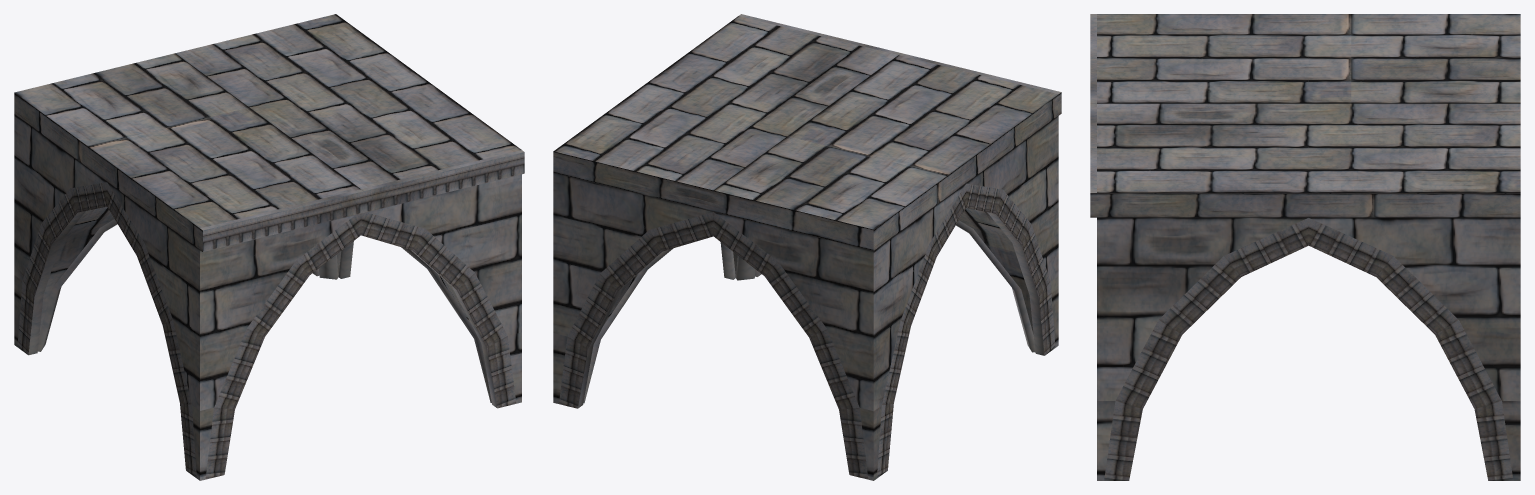
Rendered from vault_small_front_01.fbx.
3 views of the same model, side by side, from view 1: azimuth 30°, elevation 25°; view 2: azimuth 150°, elevation 25°; view 3: azimuth 270°, elevation 25° (orthographic). The views are drawn at different scales.
Visible parts, largest first — view 1: vault_small_front_01; view 2: vault_small_front_01; view 3: vault_small_front_01.
Boxes of the visible parts, x1=… form: vault_small_front_01: x1=14, y1=14, x2=524, y2=480; vault_small_front_01: x1=553, y1=14, x2=1061, y2=480; vault_small_front_01: x1=1090, y1=14, x2=1520, y2=480.
Size of the model in its own units: 800 by 600 by 812.
